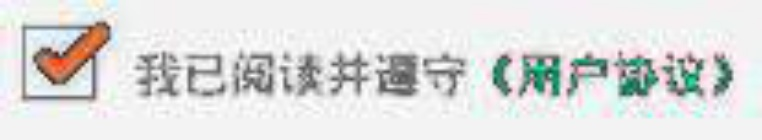CheckBox: (1, 1, 761, 139)
